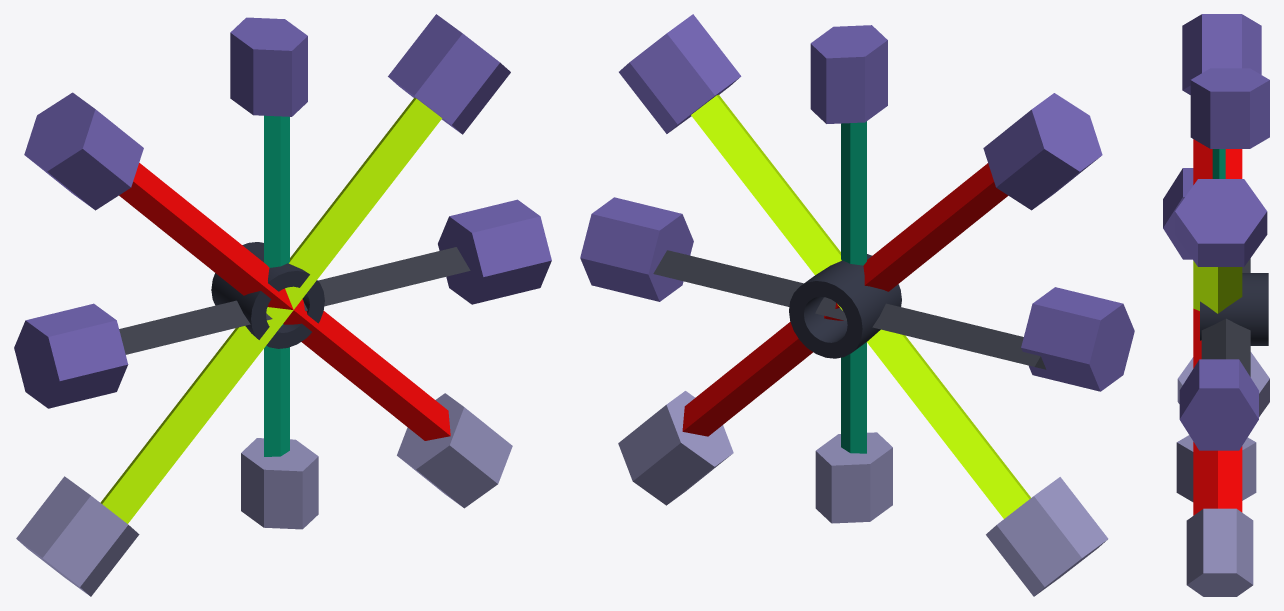
File: Ferris wheel.fbx
3 views of the same model, side by side, from view 1: azimuth 30°, elevation 25°; view 2: azimuth 150°, elevation 25°; view 3: azimuth 270°, elevation 25° (orthographic). The views are drawn at different scales.
Visible parts, largest first — view 1: mergedBlocks; view 2: mergedBlocks; view 3: mergedBlocks.
Part boxes in pixels (box(x1,y1,x2,y2)): mergedBlocks: box(14, 14, 551, 596); mergedBlocks: box(580, 14, 1134, 596); mergedBlocks: box(1163, 14, 1269, 596).
Bounding box in the file's own units: 73.2 × 70.66 × 15.55.
